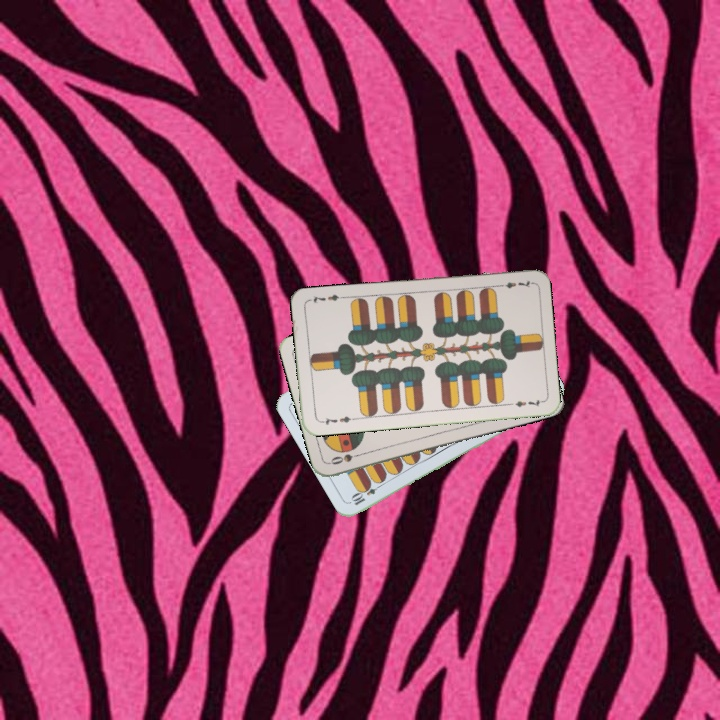E10: (347, 478, 385, 508)
E7: (316, 412, 356, 428), (493, 277, 534, 291)
SO: (326, 449, 366, 467)
